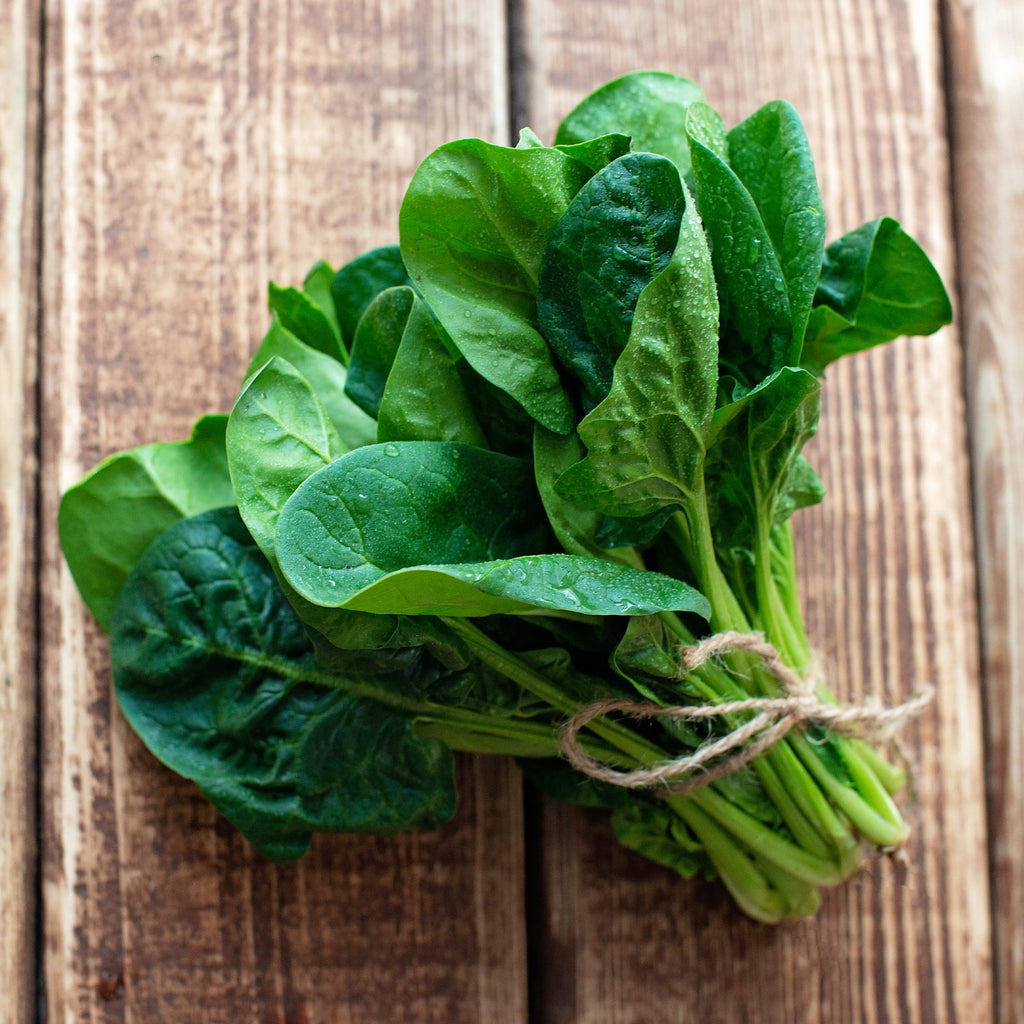Bayam: (46, 58, 967, 942)
